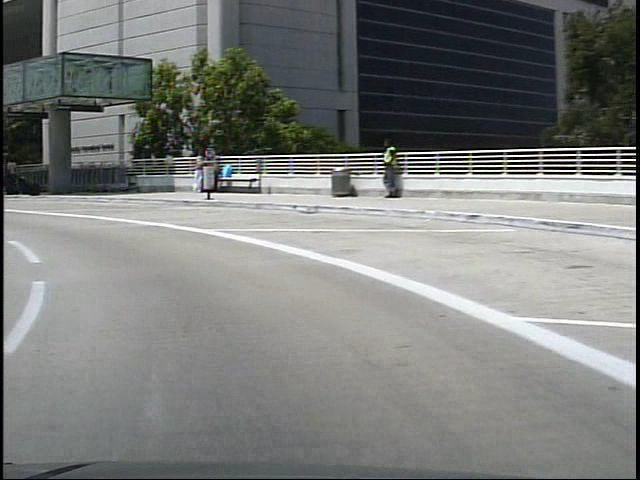person: (371, 143, 395, 208)
